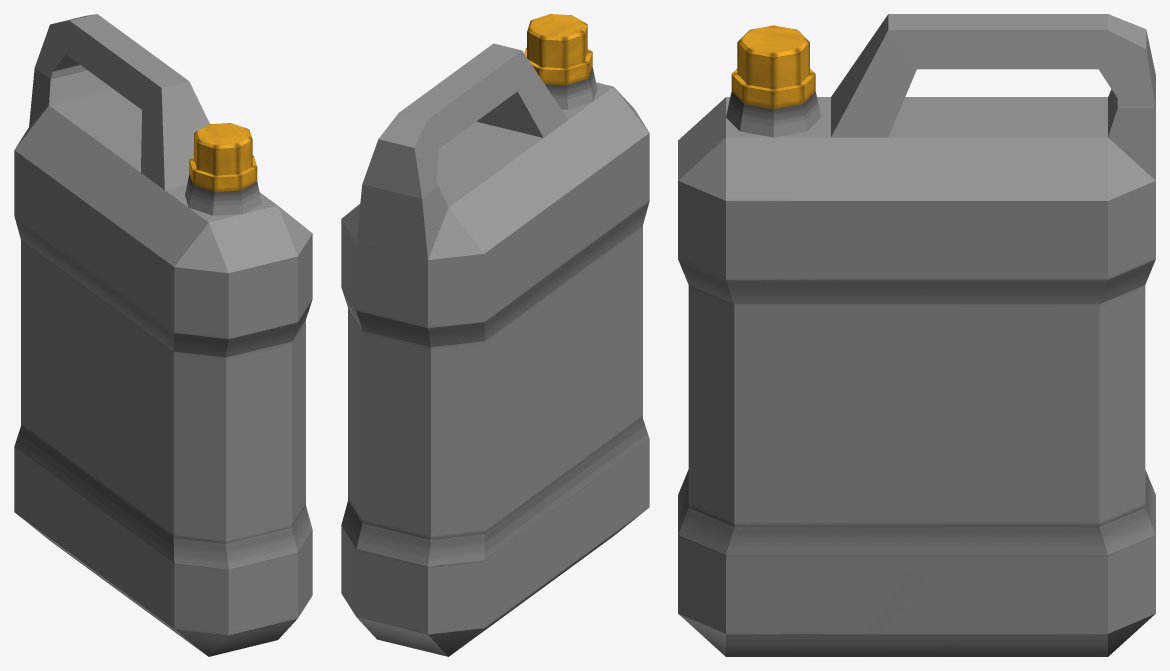
Rendered from Jerigen_Minyak_Tanah.fbx.
The picture shows the model from 3 angles, left to right: view 1: azimuth 30°, elevation 25°; view 2: azimuth 150°, elevation 25°; view 3: azimuth 270°, elevation 25°; orthographic projection. The views are drawn at different scales.
Parts seen in each view (by area): view 1: Cube; view 2: Cube; view 3: Cube.
Part boxes in pixels (x1=…): Cube: x1=14, y1=14, x2=312, y2=656; Cube: x1=341, y1=14, x2=649, y2=656; Cube: x1=678, y1=14, x2=1155, y2=656.
Size of the model in its own units: 20 by 71 by 50.
Materials: 2 (2 with a texture image).
